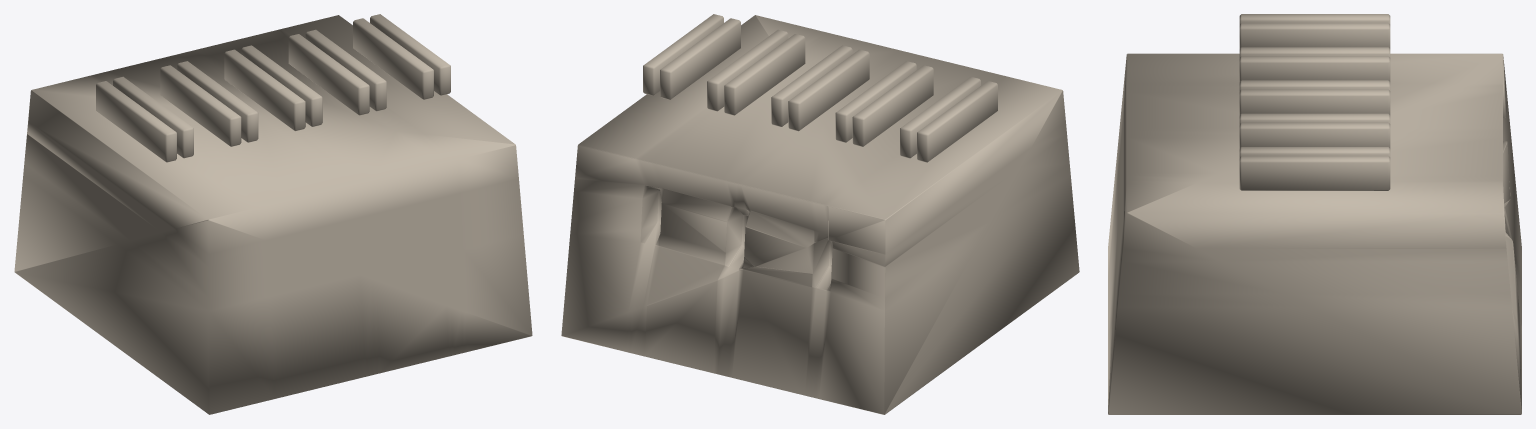
Rendered from rampart_main_tidemark.glb.
3 renders of one model, left to right at view 1: azimuth 30°, elevation 25°; view 2: azimuth 150°, elevation 25°; view 3: azimuth 270°, elevation 25°, orthographic. The views are drawn at different scales.
Parts seen in each view (by area): view 1: rampart_main_tidemark; view 2: rampart_main_tidemark; view 3: rampart_main_tidemark.
Part boxes in pixels (<box>): rampart_main_tidemark: <box>14,14,532,414</box>; rampart_main_tidemark: <box>561,14,1079,414</box>; rampart_main_tidemark: <box>1108,14,1521,414</box>.
Bounding box in the file's own units: 4.2 × 2.87 × 4.4.
